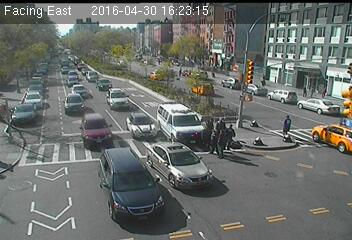neg: (31, 62, 64, 106), (139, 152, 171, 195), (79, 140, 107, 178), (13, 146, 41, 183), (238, 55, 264, 90), (163, 41, 187, 73), (90, 73, 113, 105), (132, 68, 154, 98), (294, 46, 316, 75), (269, 32, 288, 58)
pos: (207, 124, 226, 149), (282, 113, 299, 136), (223, 122, 240, 144)
